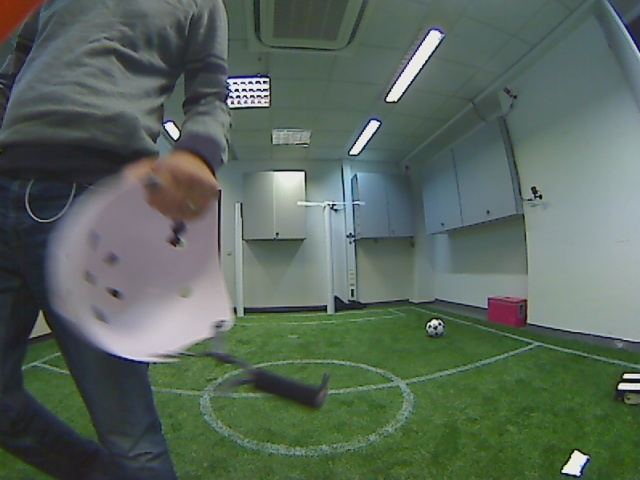ball: (423, 314, 446, 338)
